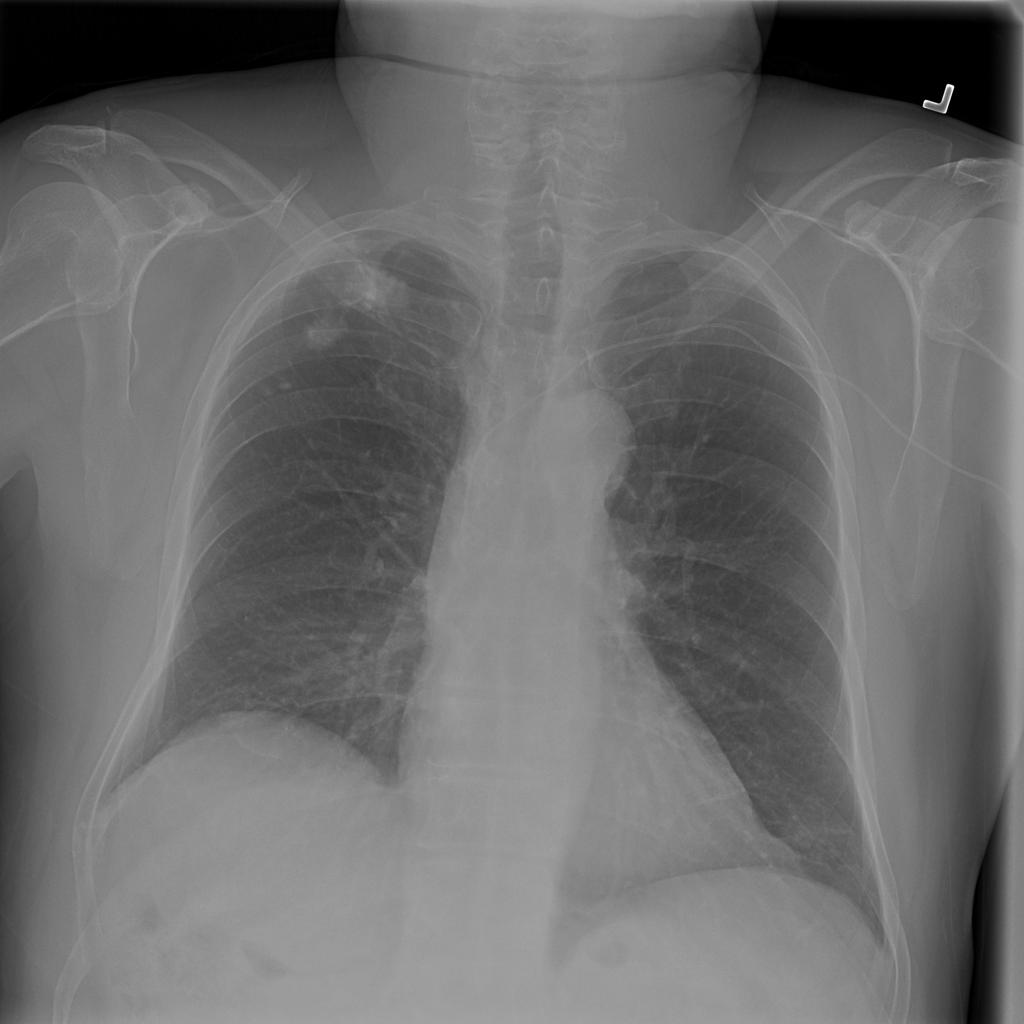nodule: (333, 255, 421, 325), (285, 300, 362, 364), (264, 376, 298, 400)
